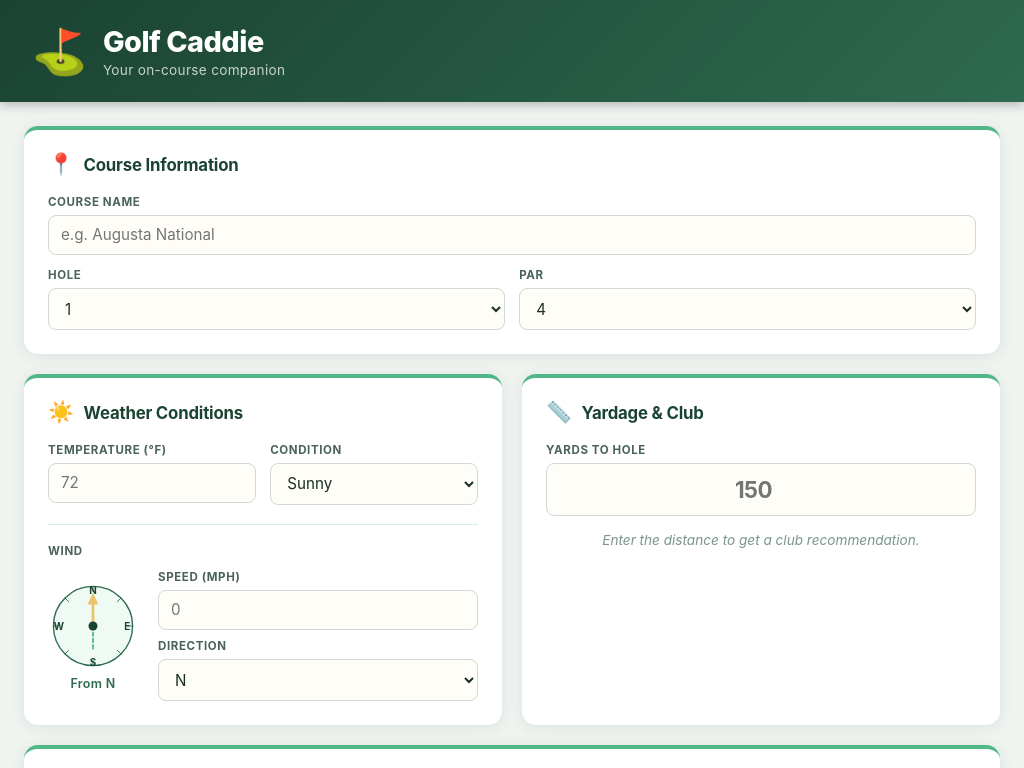
Test: CourseInfo › shows course badge when name is entered
Step 1. Type "St Andrews" into the field with placeholder "e.g. Augusta National" → (512, 235), box [48,215,976,255]
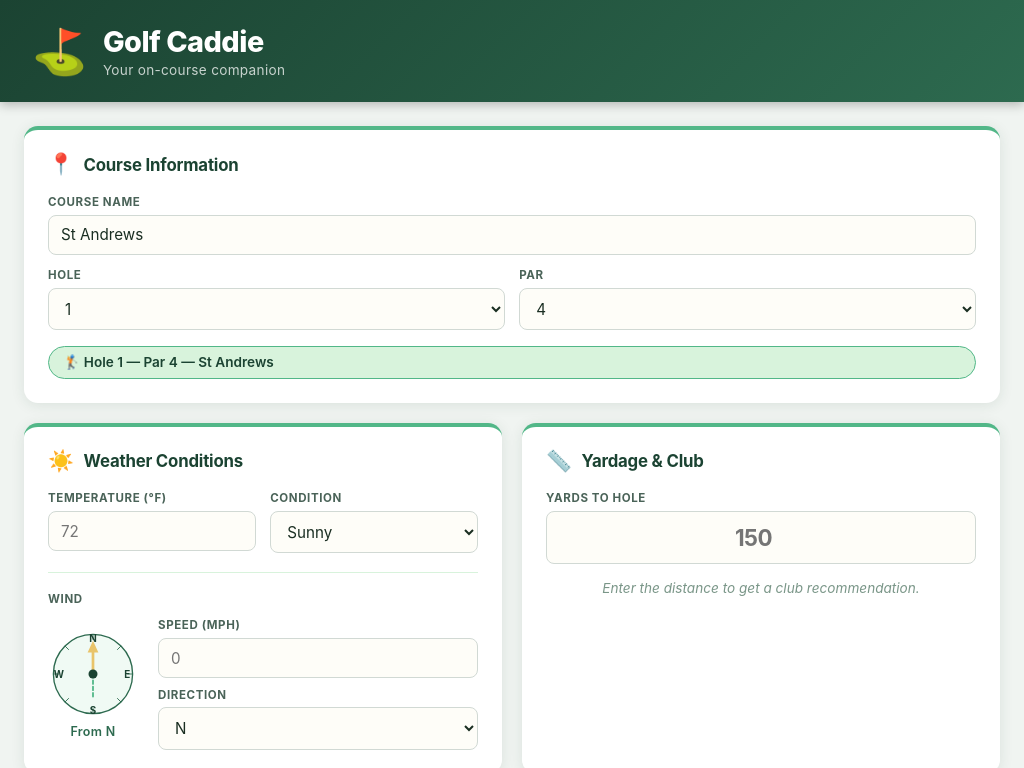
Expected: the text "🏌️ Hole 1 — Par 4 — St Andrews" is shown, [63,354,274,370]
